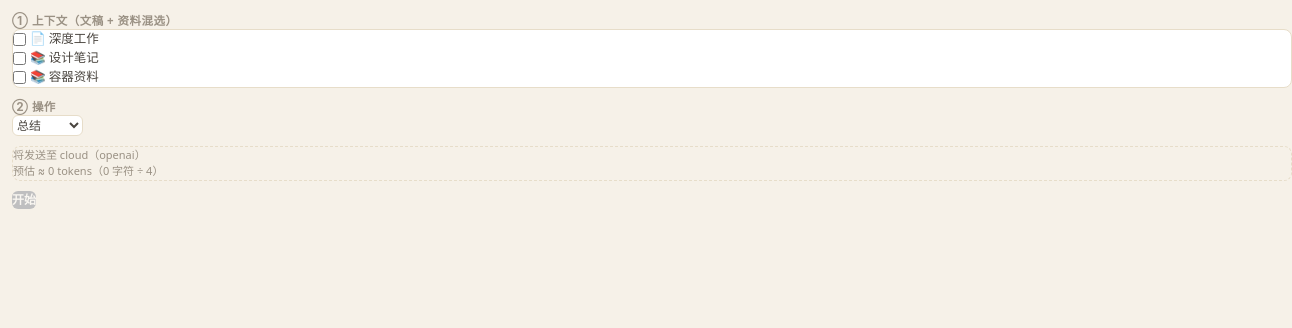
AIWorkbench › 开始 → aiRunOp（上下文/操作/附件原文开关）→ 流式预览卡 → 插入光标处 + aiAdoptResult
Expected: the element with test id "ai-workbench" is shown, [12,12,1291,209]
Click the checkbox with test id "ctx-post-p1".
click(20, 40)  # box [13,33,26,46]
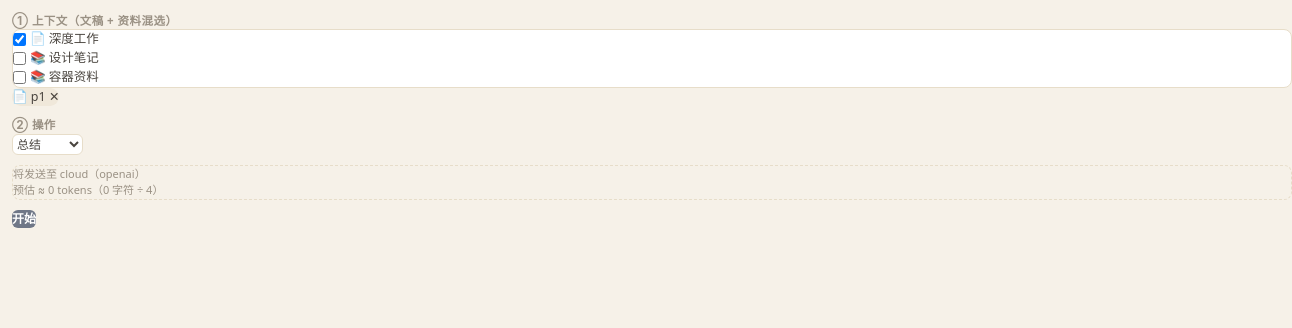
Click the checkbox with test id "ctx-material-m2".
click(20, 77)  # box [13,71,26,84]
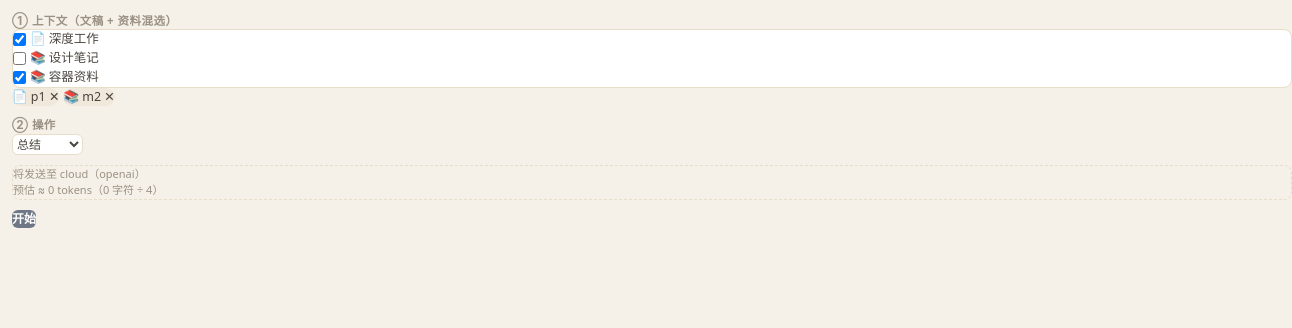
Click the button with test id "ai-start".
click(24, 218)  # box [12,210,36,228]
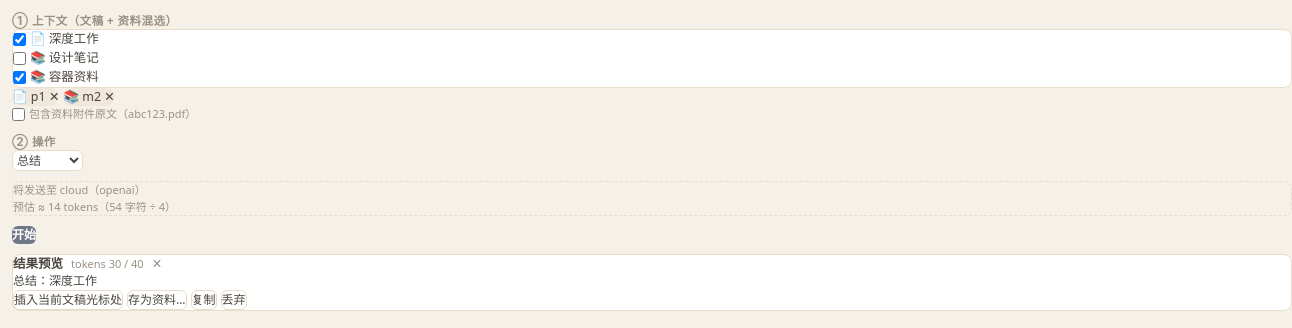
Expected: the text with test id "ai-preview-text" reads "总结：深度工作", [13,275,97,289]
Expected: the element with test id "ai-preview" shows "30 / 40", [12,254,1291,311]
Click the button with test id "ai-insert".
click(68, 300)  # box [13,290,123,310]
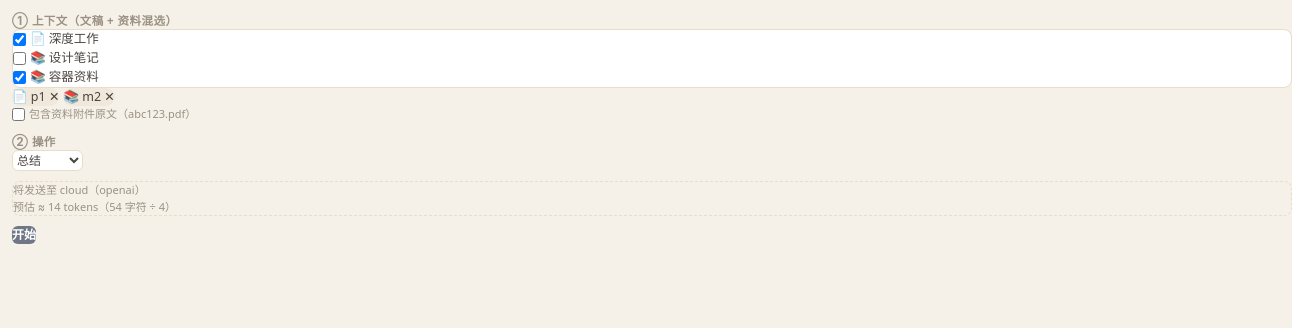
Expected: the element with test id "ai-preview" is gone
